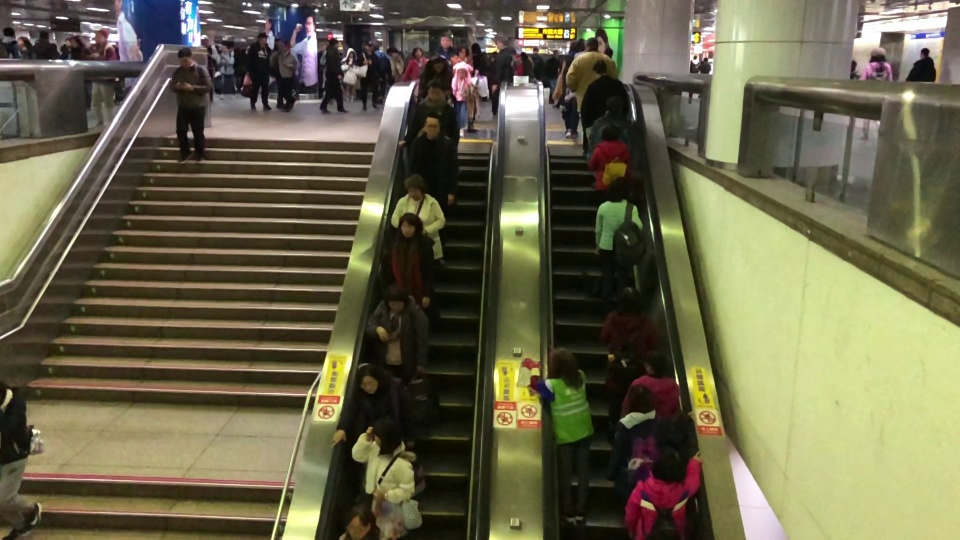person_head: (343, 503, 377, 539), (652, 446, 685, 480), (546, 346, 577, 378), (627, 383, 656, 412), (354, 364, 381, 392), (616, 287, 643, 315), (397, 212, 424, 239), (641, 347, 669, 373), (372, 419, 399, 444), (383, 285, 408, 310), (403, 172, 426, 199), (423, 110, 441, 137), (606, 180, 628, 202), (600, 123, 621, 140), (427, 77, 443, 99), (177, 46, 193, 66), (592, 59, 608, 77), (606, 95, 621, 114), (93, 26, 110, 42), (439, 32, 453, 49), (870, 47, 886, 61), (494, 36, 509, 50), (584, 37, 598, 51), (431, 56, 444, 71), (3, 26, 15, 38), (39, 29, 50, 41), (411, 46, 422, 58), (920, 46, 930, 59), (328, 36, 339, 47), (457, 47, 468, 58), (457, 66, 467, 78), (71, 36, 81, 47), (258, 32, 267, 42), (281, 41, 290, 51), (365, 42, 373, 52), (850, 59, 856, 71), (532, 47, 539, 56), (348, 49, 355, 57), (374, 44, 380, 51), (692, 54, 698, 60), (703, 57, 709, 61)
person_vbox: (520, 345, 594, 532), (598, 286, 661, 446), (605, 383, 697, 491), (406, 110, 460, 266), (622, 445, 702, 540), (331, 364, 415, 451), (594, 180, 645, 321), (379, 211, 440, 321), (0, 382, 42, 540), (364, 284, 431, 383), (350, 418, 416, 512), (170, 46, 213, 165), (391, 171, 446, 262), (397, 76, 460, 147), (620, 347, 681, 418), (566, 38, 617, 112), (580, 59, 633, 129), (586, 95, 638, 160), (587, 123, 635, 191), (85, 27, 118, 125), (859, 46, 892, 141), (318, 35, 348, 114), (244, 31, 273, 111), (489, 34, 524, 91), (274, 39, 298, 113), (69, 38, 93, 110), (355, 41, 379, 110), (451, 64, 470, 135), (903, 47, 937, 84), (373, 45, 391, 103), (402, 46, 428, 81), (341, 49, 357, 101), (686, 53, 699, 104), (0, 25, 20, 58), (35, 31, 58, 58), (451, 47, 472, 73), (531, 46, 544, 77), (849, 58, 858, 78), (700, 56, 710, 72)
